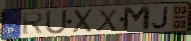J: (151, 6, 170, 30)
M: (122, 5, 152, 33)
R: (22, 11, 46, 36)
U: (43, 9, 69, 36)
X: (72, 8, 96, 35), (96, 7, 119, 33)
